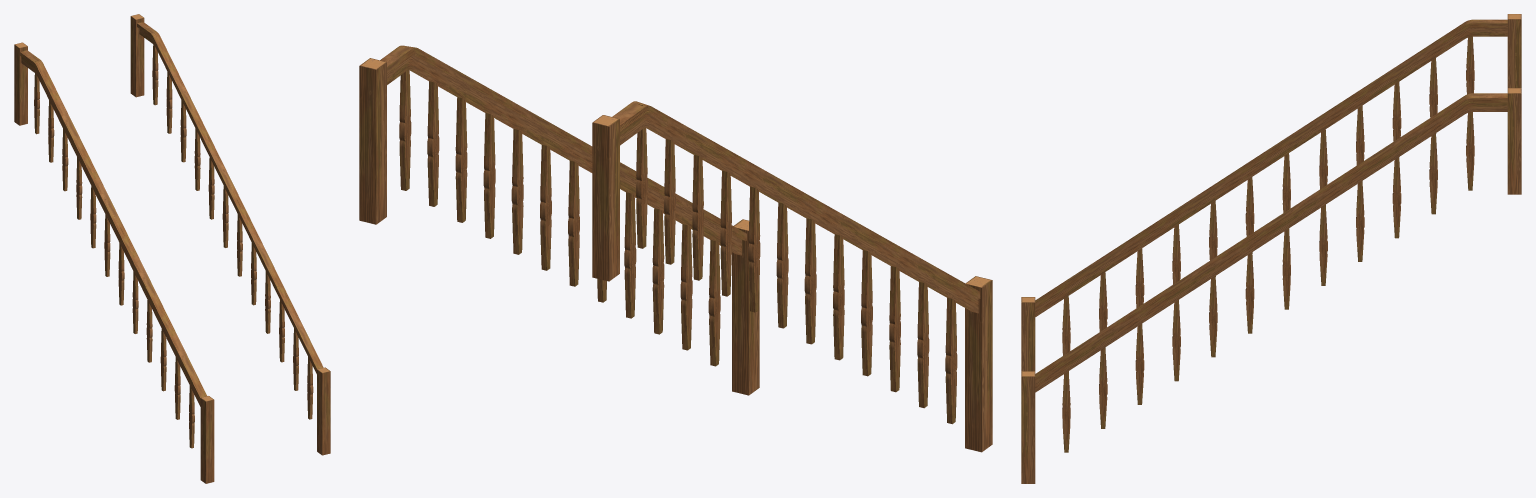
File: Stair_Interior_Rails.gltf
3 views of the same model, side by side, from view 1: azimuth 30°, elevation 25°; view 2: azimuth 150°, elevation 25°; view 3: azimuth 270°, elevation 25° (orthographic). The views are drawn at different scales.
Parts seen in each view (by area): view 1: Stair_Interior_Rails; view 2: Stair_Interior_Rails; view 3: Stair_Interior_Rails.
Boxes of the visible parts, bbox=[...] form: Stair_Interior_Rails: bbox=[14, 14, 330, 483]; Stair_Interior_Rails: bbox=[359, 45, 992, 452]; Stair_Interior_Rails: bbox=[1021, 14, 1521, 483].
Size of the model in its own units: 1.72 by 3.93 by 4.56.
1 material, 1 textured.
